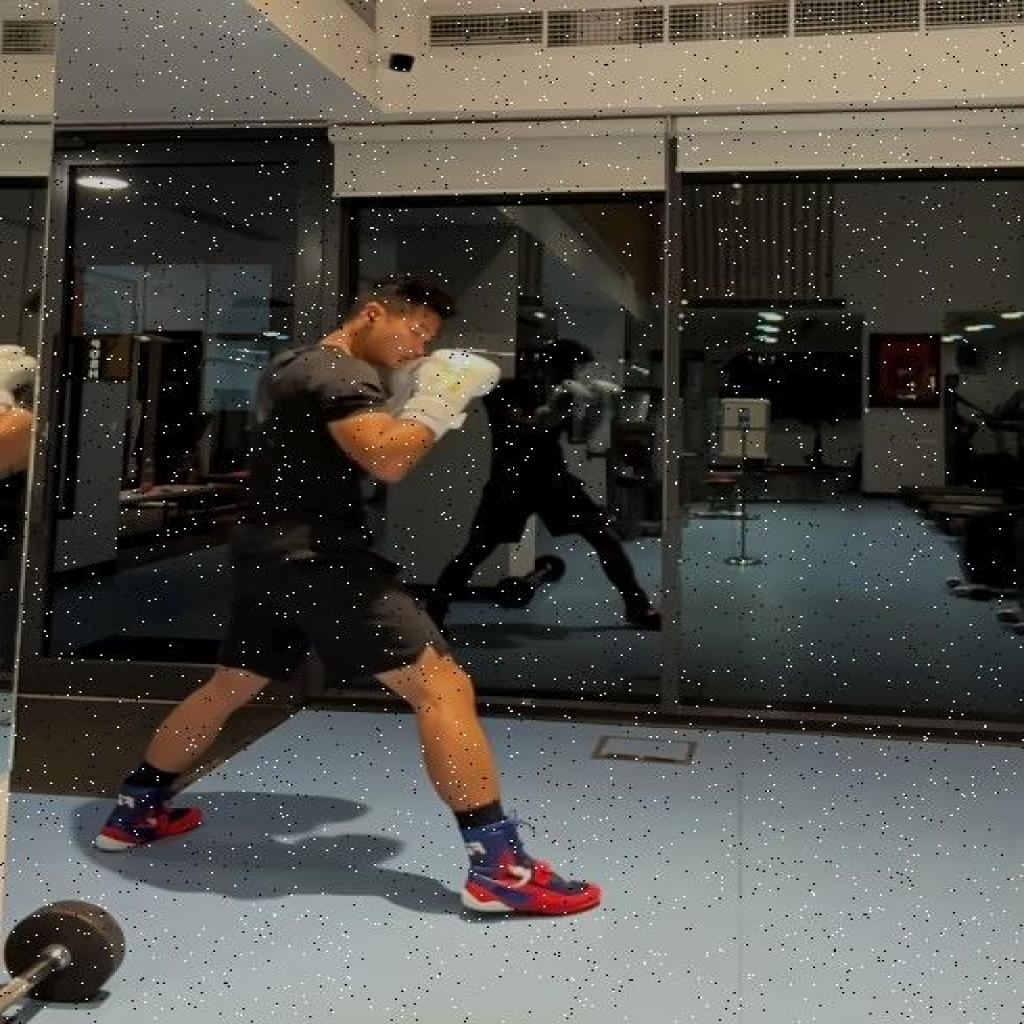no punch: (92, 272, 608, 920)
